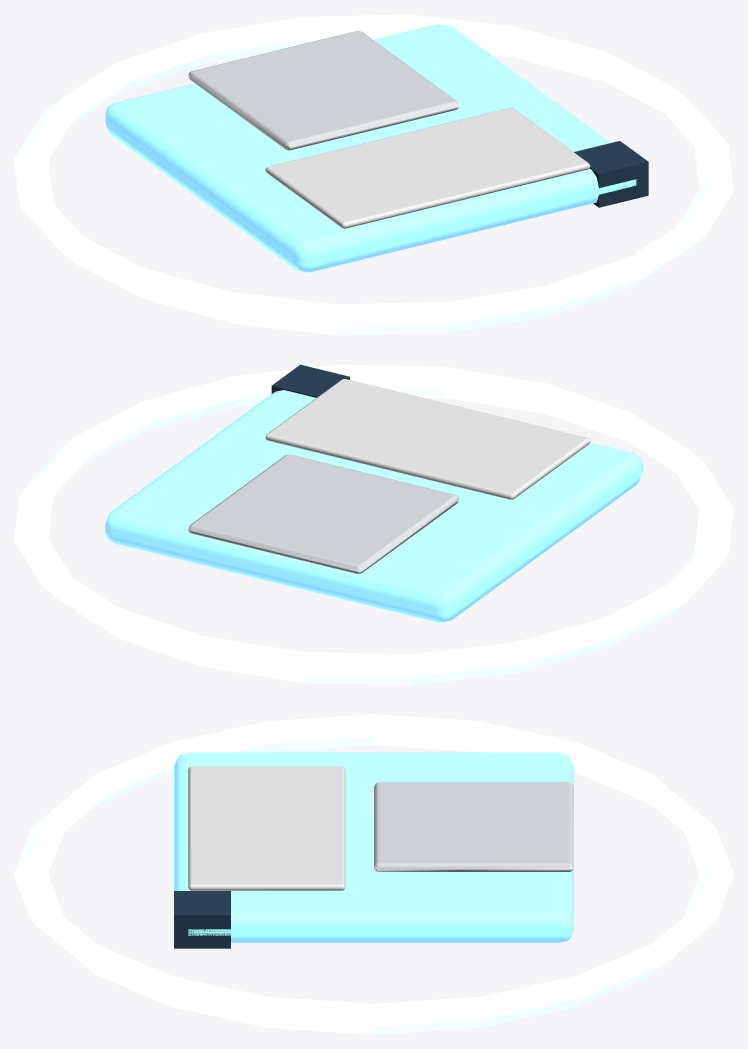
Rendered from save_disk.glb.
3 views of the same model, one above another, from view 1: azimuth 30°, elevation 25°; view 2: azimuth 150°, elevation 25°; view 3: azimuth 270°, elevation 25° (orthographic).
Parts seen in each view (by area): view 1: halo, body, label, shutter, notch; view 2: halo, body, label, shutter, notch; view 3: halo, body, label, shutter, notch.
Part boxes in pixels (left/top/right/bottom): halo: left=14, top=14, right=733, bottom=335; body: left=105, top=24, right=636, bottom=272; label: left=265, top=107, right=590, bottom=228; shutter: left=188, top=31, right=458, bottom=150; notch: left=574, top=141, right=648, bottom=207; halo: left=14, top=364, right=733, bottom=685; body: left=105, top=390, right=642, bottom=622; label: left=265, top=379, right=590, bottom=499; shutter: left=188, top=454, right=458, bottom=573; notch: left=271, top=364, right=349, bottom=397; halo: left=14, top=714, right=733, bottom=1034; body: left=174, top=752, right=573, bottom=942; label: left=188, top=766, right=345, bottom=890; shutter: left=374, top=782, right=573, bottom=871; notch: left=174, top=891, right=230, bottom=948.
Size of the model in its own units: 0.504 by 0.052 by 0.504.
